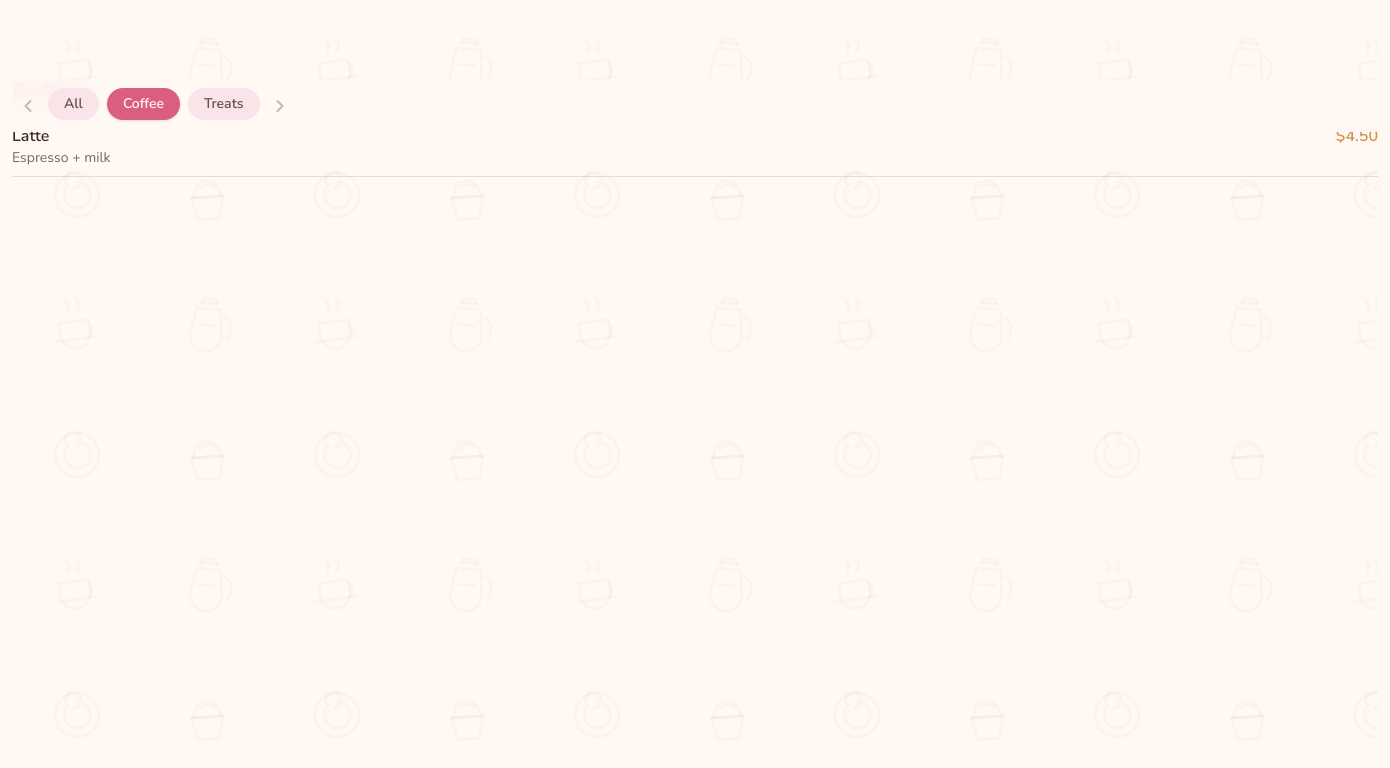
MenuList › filters to a category when its pill is tapped
The width and height of the screenshot is (1390, 768).
Click the button "Treats" at (224, 104), box [188, 88, 260, 120]
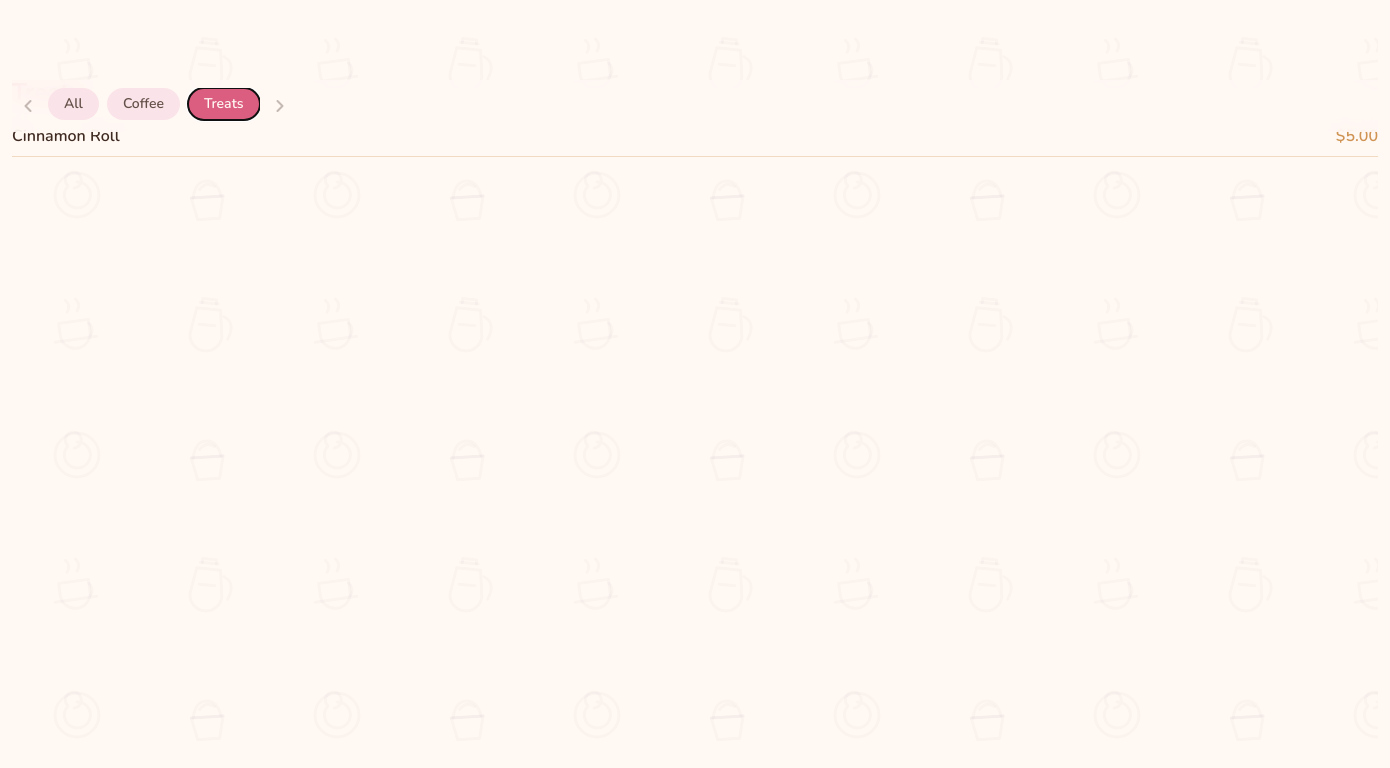
Check: the text "Cinnamon Roll" is shown, box [12, 124, 120, 148]
Check: the text "Latte" is gone
